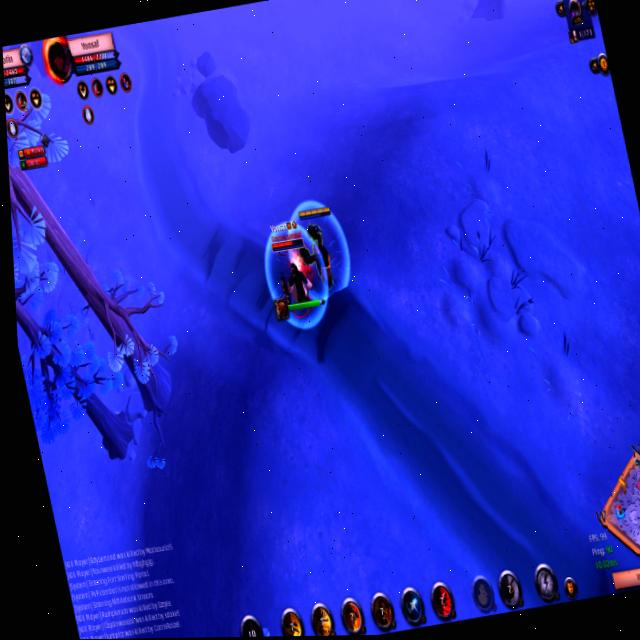red: (262, 219, 329, 334), (294, 199, 352, 296)
